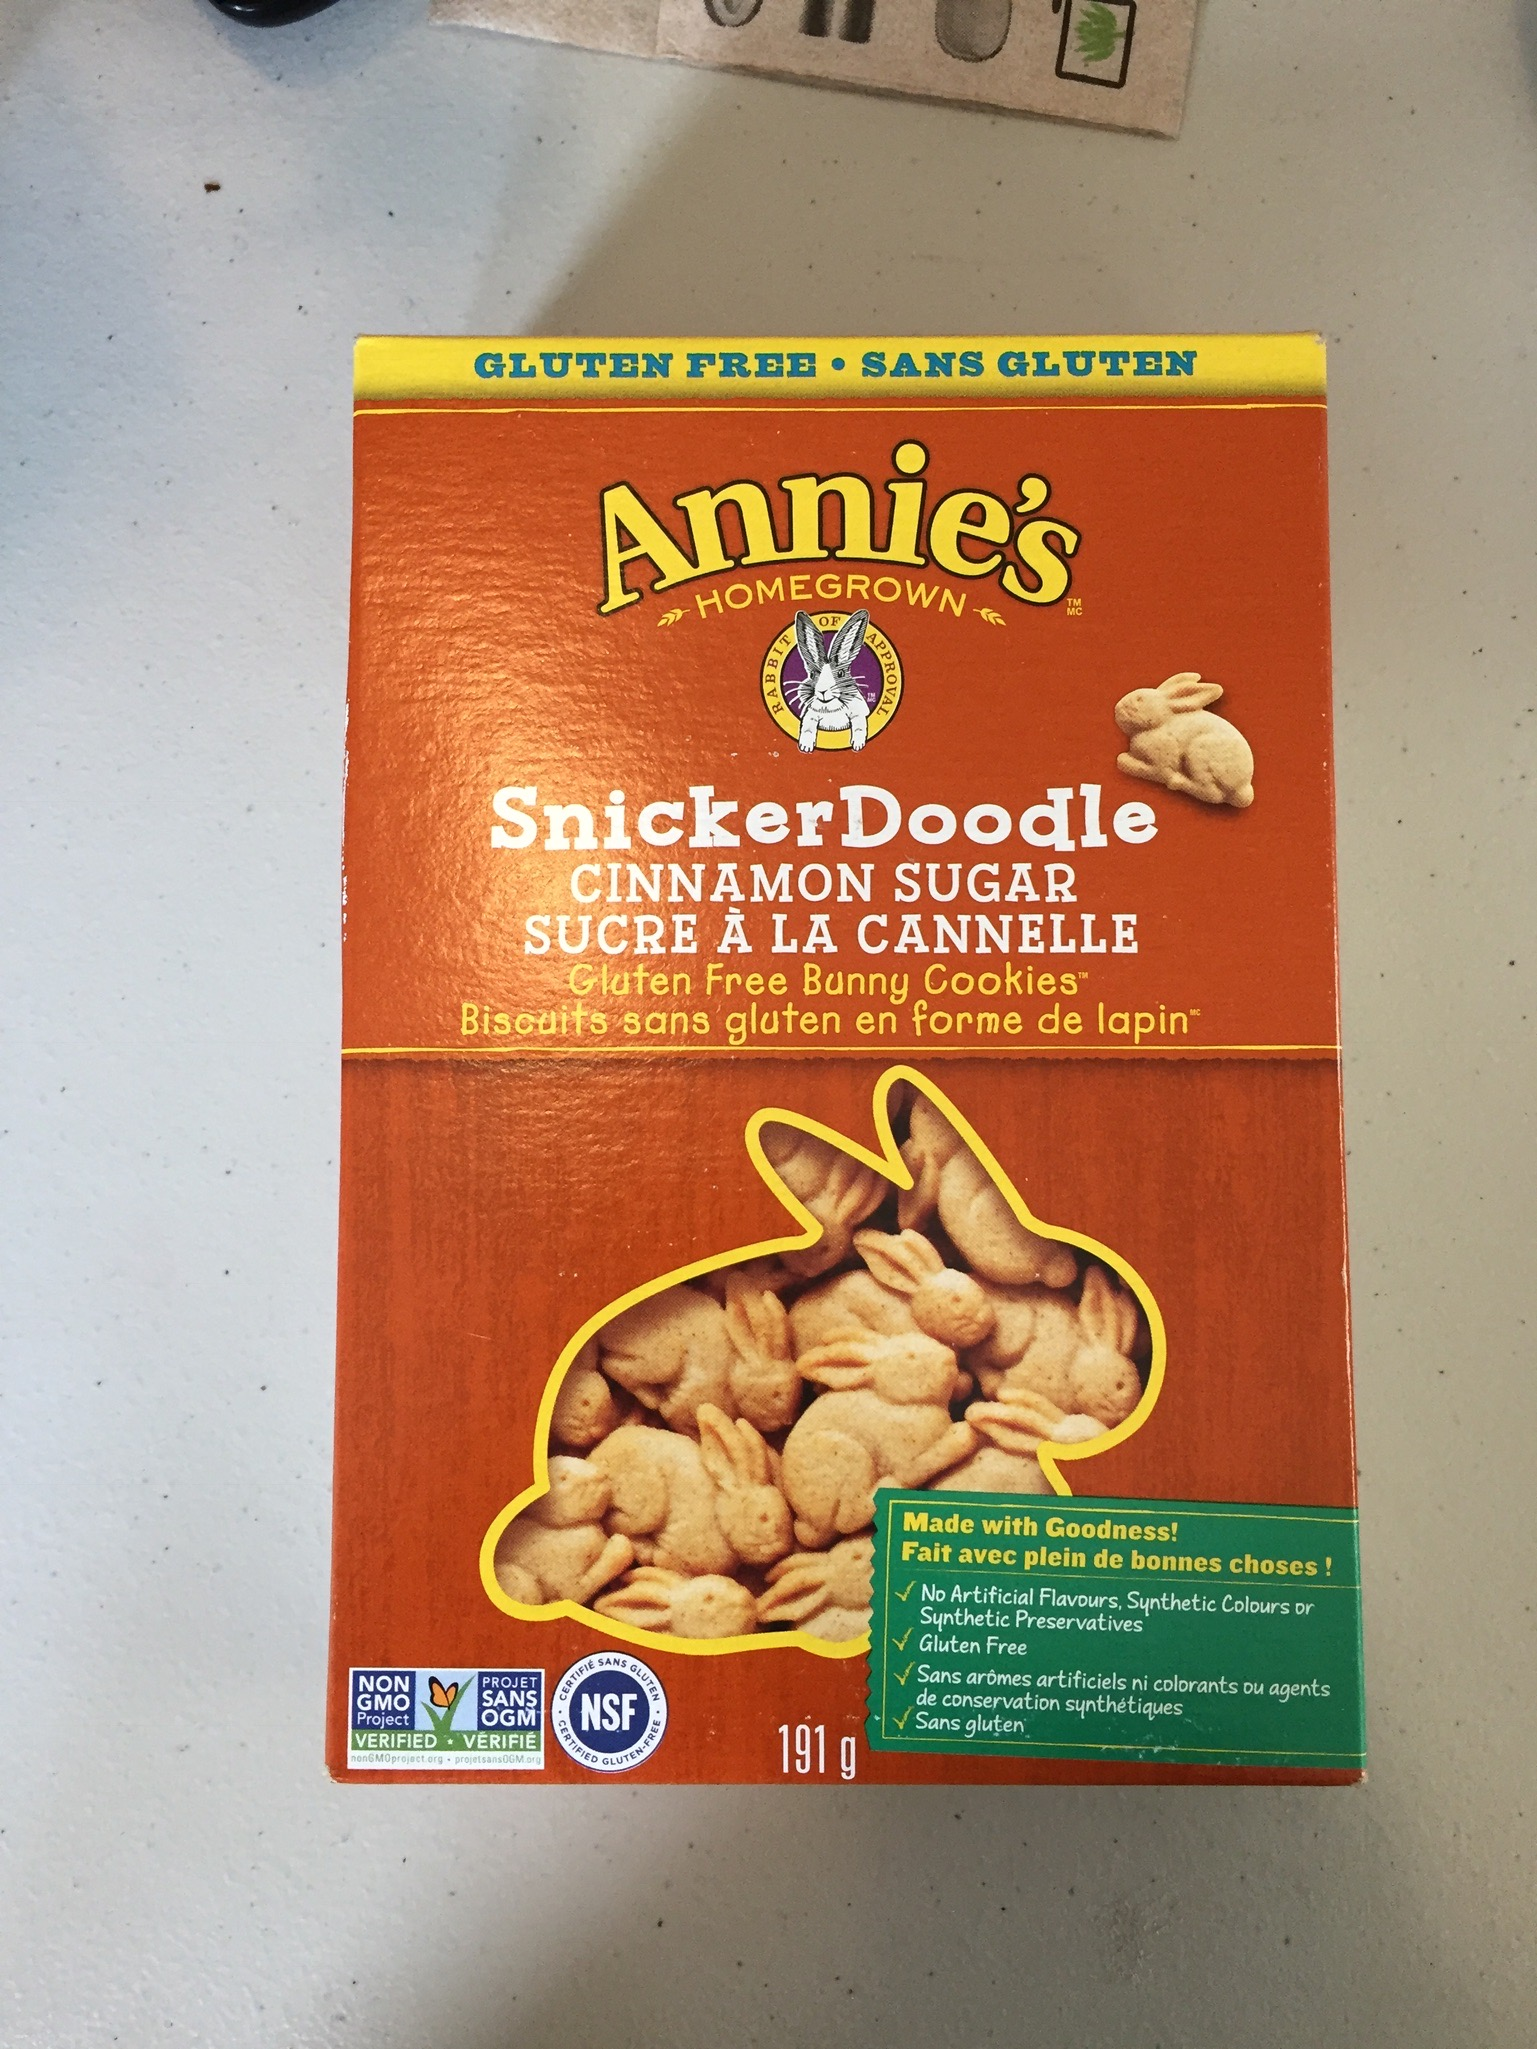annies_snickerdoodle_cinnamon_sugar: (365, 344, 1351, 1778)
